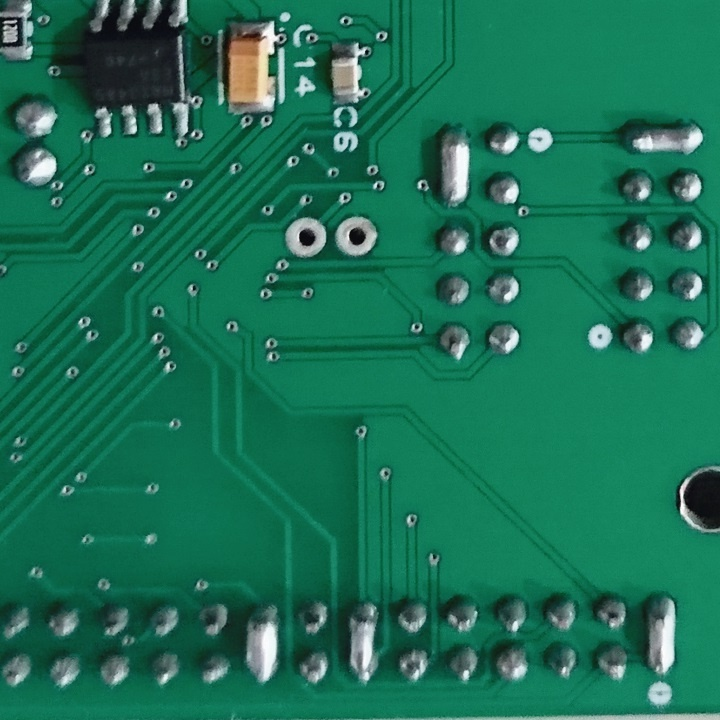F: (332, 212, 380, 263), (284, 215, 328, 260)
P: (619, 114, 707, 162), (240, 599, 286, 686), (641, 586, 681, 677), (435, 118, 473, 213), (342, 596, 381, 687)
